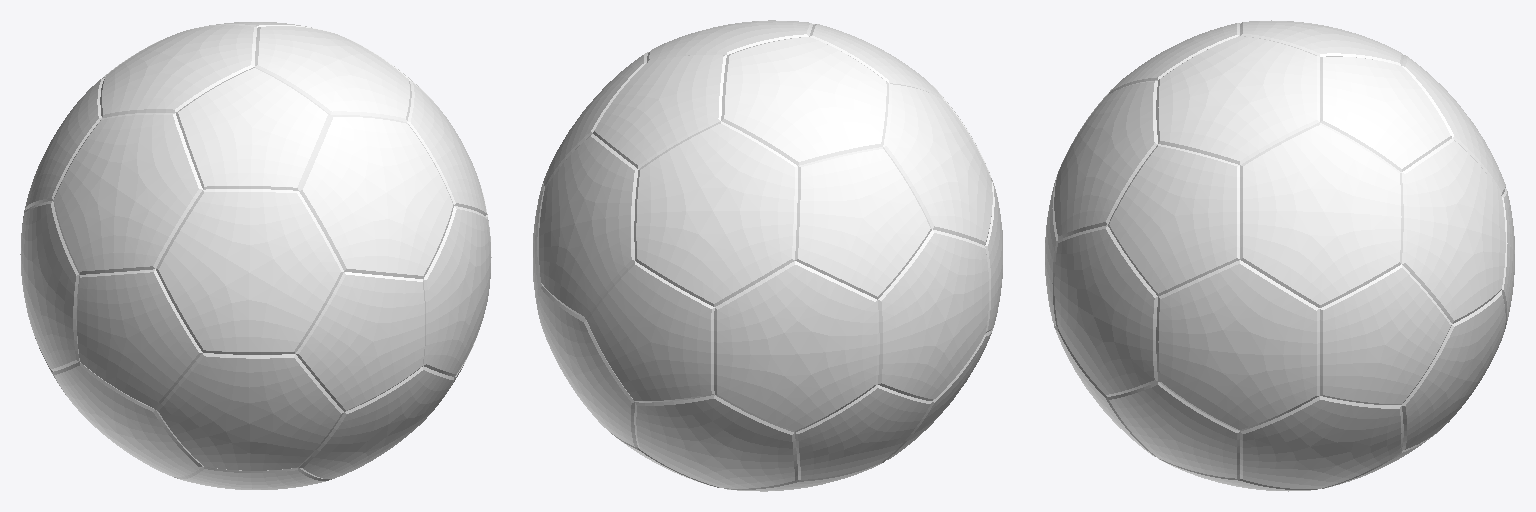
robot.urdf — urdf_robot:
<?xml version="1.0" ?>
<robot name="urdf_robot">
  <link name="baseLink">
  	<contact>
      <rolling_friction value="0.03"/>
      <spinning_friction value="0.03"/>
    </contact>

    <inertial>
      <origin rpy="0 0 0" xyz="0 0 0"/>
       <mass value="10.0"/>
       <inertia ixx="1" ixy="0" ixz="0" iyy="1" iyz="0" izz="1"/>
    </inertial>
    <visual>
      <origin rpy="0 0 0" xyz="0 0 0"/>
      <geometry>
				<mesh filename="soccerball.obj" scale="1 1 1"/>      
      </geometry>
      <material name="white">
        <color rgba="1 1 1 1"/>
        <specular rgb="11 1 1"/>
      </material>
    </visual>
    <collision>
      <origin rpy="0 0 0" xyz="0 0 0"/>
      <geometry>
	 <sphere radius="0.5"/>
      </geometry>
    </collision>
  </link>
</robot>


--- Facts derived from the render (not from the file) ---
The picture shows the robot from 3 angles, left to right: view 1: azimuth 30°, elevation 25°; view 2: azimuth 150°, elevation 25°; view 3: azimuth 270°, elevation 25°; orthographic projection.
Robot: urdf_robot — 1 links, 0 joints (none); root link baseLink; default pose: all joints at 0.
Links seen in each view (by area): view 1: baseLink; view 2: baseLink; view 3: baseLink.
Boxes of the visible links, bbox=[...] form: baseLink: bbox=[20, 22, 491, 489]; baseLink: bbox=[533, 20, 1002, 491]; baseLink: bbox=[1045, 20, 1514, 491].
Size in the robot's own frame: 1 by 1 by 1.01 metres.
Meshes: 1 distinct files referenced, 1 mesh visuals loaded (1 OBJ).